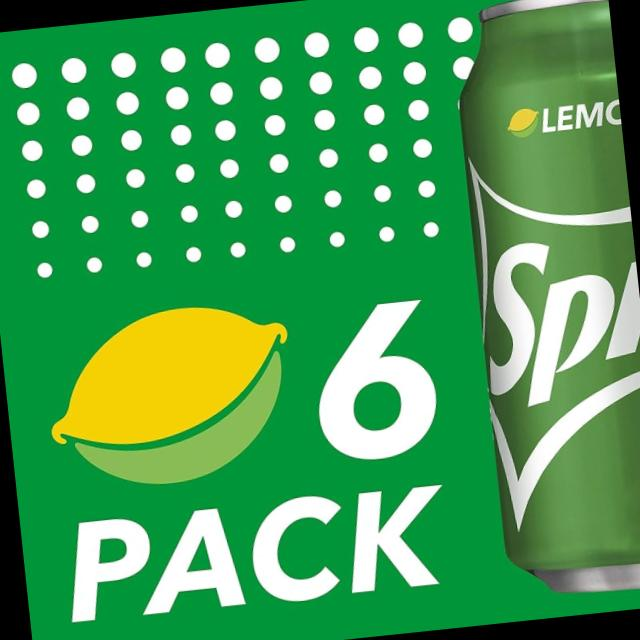sprite: (439, 0, 640, 606)
